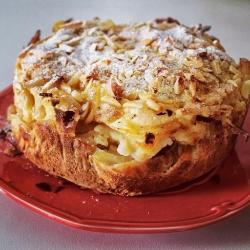apple_pie: (8, 13, 246, 200)
